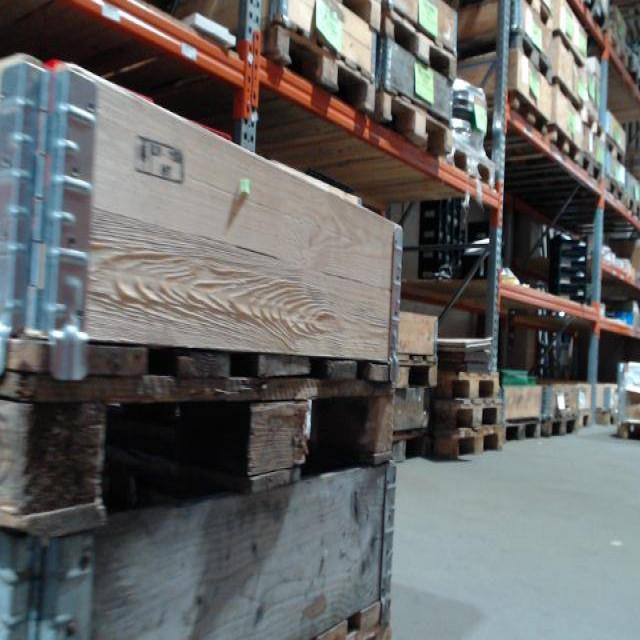pallet: (2, 336, 390, 540), (180, 21, 382, 135), (372, 92, 455, 166), (377, 8, 460, 80), (450, 33, 551, 83), (531, 28, 588, 116), (473, 99, 552, 147), (316, 596, 394, 638), (448, 137, 497, 191), (396, 350, 439, 404), (561, 3, 610, 43), (435, 400, 504, 427), (540, 128, 587, 166), (444, 429, 503, 459), (441, 372, 504, 400), (393, 429, 434, 466), (490, 1, 555, 23), (538, 412, 581, 445), (499, 416, 543, 442), (604, 32, 631, 73), (604, 173, 628, 210), (578, 154, 604, 185), (581, 110, 607, 139), (604, 137, 628, 166), (615, 417, 640, 443), (573, 411, 593, 430), (627, 193, 639, 217)
small_load_carrier: (608, 311, 636, 330)
